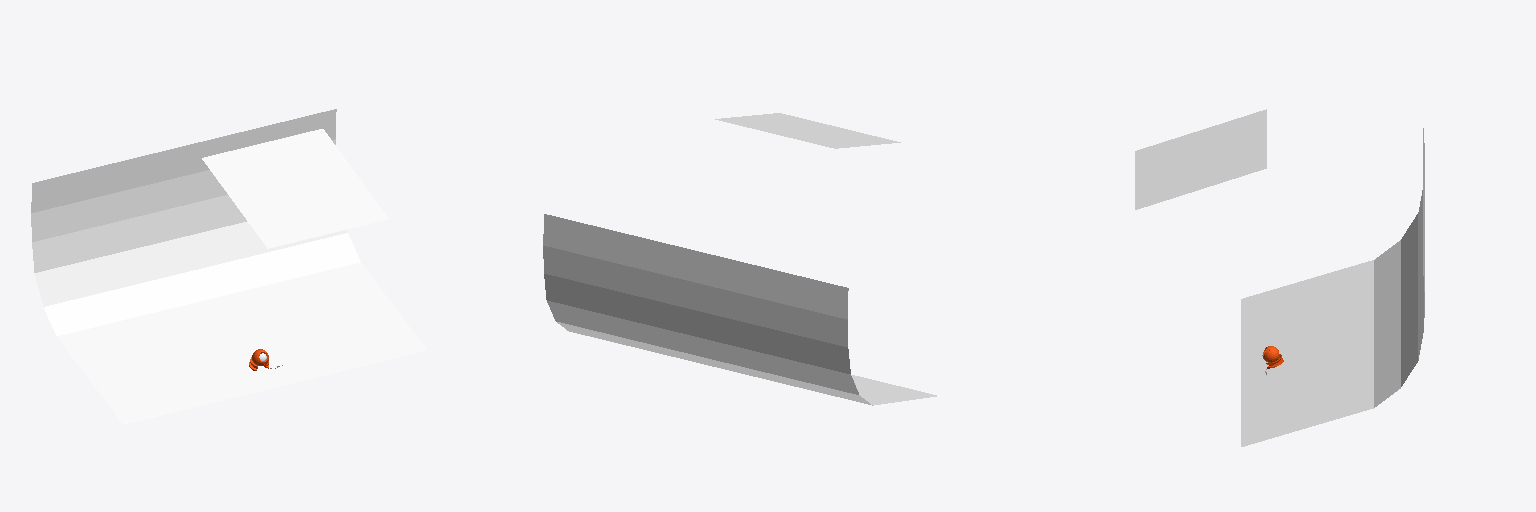
File: testObj-metal.obj
3 renders of one model, left to right at view 1: azimuth 30°, elevation 25°; view 2: azimuth 150°, elevation 25°; view 3: azimuth 270°, elevation 25°, orthographic.
Size of the model in its own units: 18.75 by 13.81 by 15.49.